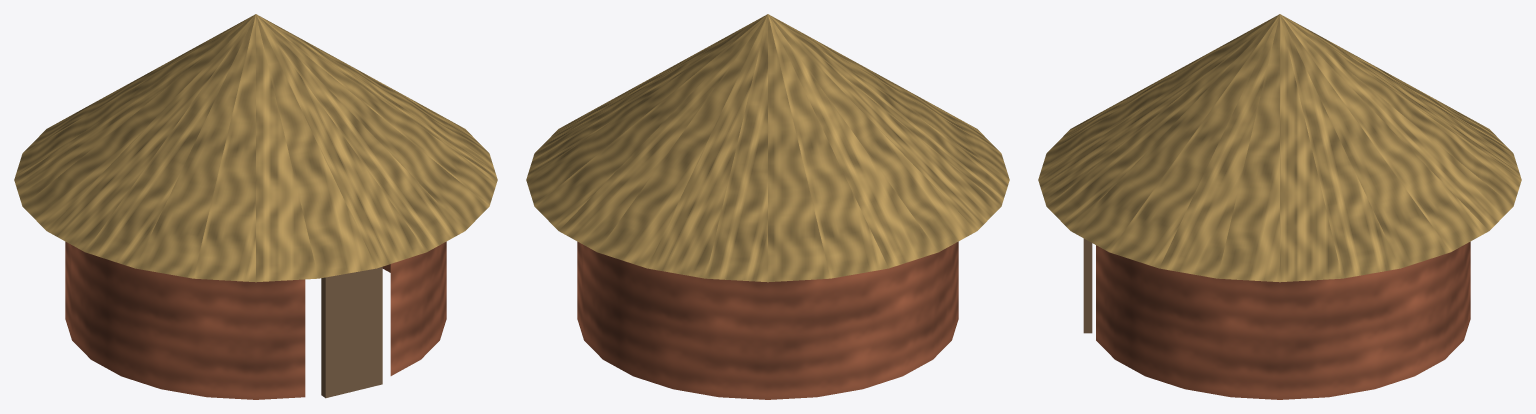
File: rondavel.gltf
3 renders of one model, left to right at view 1: azimuth 30°, elevation 25°; view 2: azimuth 150°, elevation 25°; view 3: azimuth 270°, elevation 25°, orthographic.
Parts seen in each view (by area): view 1: Body, Door; view 2: Body; view 3: Body, Door.
Boxes of the visible parts, bbox=[...] form: Body: bbox=[14, 14, 497, 399]; Door: bbox=[321, 266, 382, 398]; Body: bbox=[526, 14, 1009, 399]; Body: bbox=[1038, 14, 1521, 399]; Door: bbox=[1083, 238, 1092, 333].
Size of the model in its own units: 6.6 by 4.6 by 6.6.
3 materials, 2 textured.
